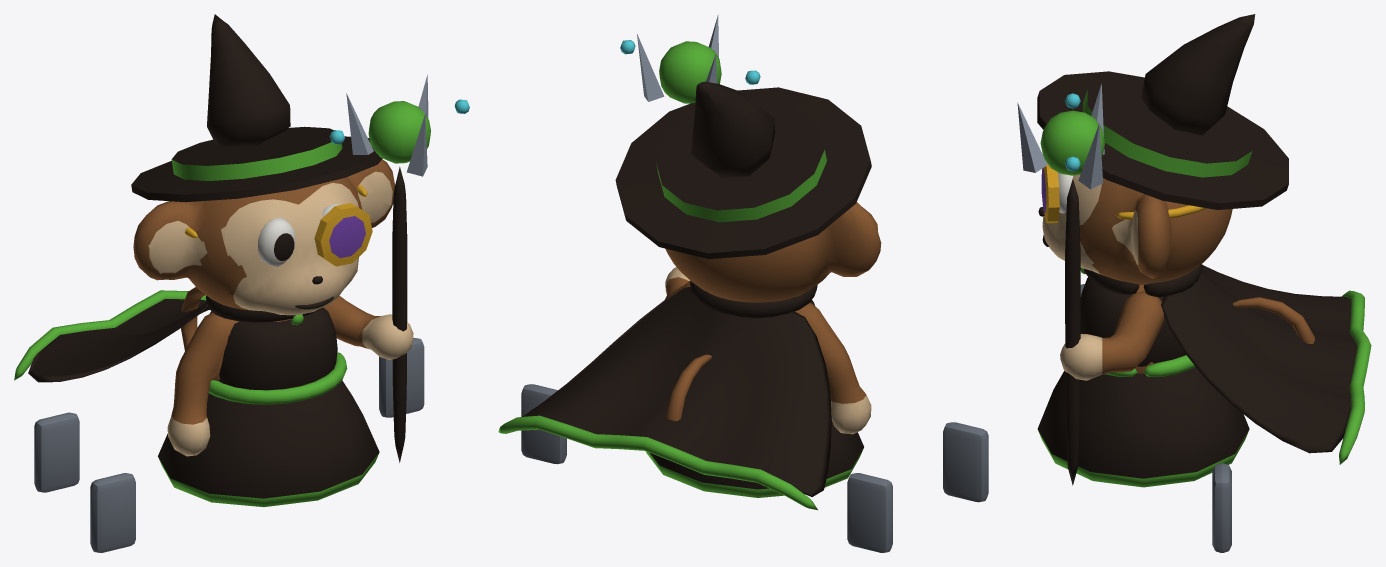
3 renders of one model, left to right at view 1: azimuth 30°, elevation 25°; view 2: azimuth 150°, elevation 25°; view 3: azimuth 270°, elevation 25°, orthographic. The views are drawn at different scales.
Parts seen in each view (by area): view 1: mago_3_cabeca, mago_1_corpo, mago_4_braco, mago_0_base, mago_2_cauda; view 2: mago_1_corpo, mago_3_cabeca, mago_0_base, mago_4_braco, mago_2_cauda; view 3: mago_1_corpo, mago_3_cabeca, mago_4_braco, mago_0_base, mago_2_cauda.
Part boxes in pixels (left/top/right/bottom): mago_3_cabeca: left=131, top=14, right=394, bottom=315; mago_1_corpo: left=14, top=290, right=379, bottom=507; mago_4_braco: left=323, top=74, right=469, bottom=462; mago_0_base: left=34, top=338, right=424, bottom=552; mago_2_cauda: left=181, top=287, right=205, bottom=350; mago_1_corpo: left=498, top=281, right=871, bottom=510; mago_3_cabeca: left=615, top=81, right=881, bottom=302; mago_0_base: left=521, top=384, right=988, bottom=552; mago_4_braco: left=620, top=14, right=760, bottom=299; mago_2_cauda: left=666, top=354, right=711, bottom=421; mago_1_corpo: left=1037, top=264, right=1371, bottom=487; mago_3_cabeca: left=1037, top=14, right=1288, bottom=285; mago_4_braco: left=1017, top=83, right=1163, bottom=485; mago_0_base: left=1080, top=284, right=1231, bottom=552; mago_2_cauda: left=1233, top=297, right=1314, bottom=343.
Size of the model in its own units: 1.21 by 1.25 by 0.9012.
